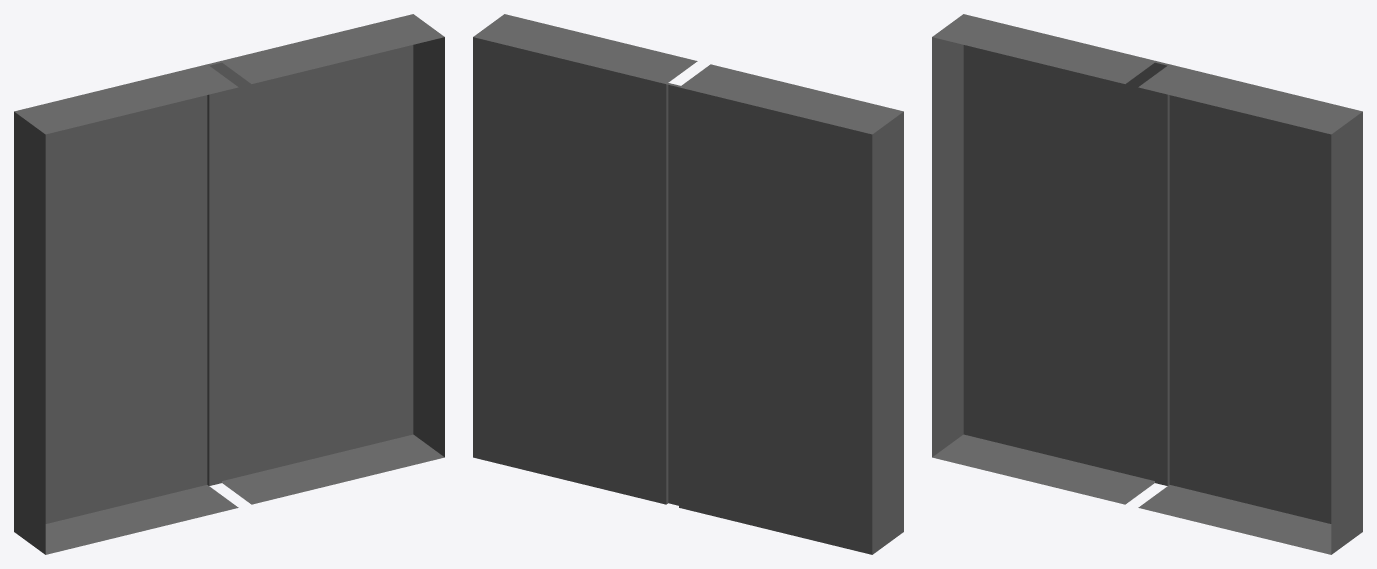
Rendered from Elevador.fbx.
3 renders of one model, left to right at view 1: azimuth 30°, elevation 25°; view 2: azimuth 150°, elevation 25°; view 3: azimuth 330°, elevation 25°, orthographic.
Visible parts, largest first — view 1: Elevador; view 2: Elevador; view 3: Elevador.
Boxes of the visible parts, <box> form: Elevador: <box>14,14,444,554</box>; Elevador: <box>473,14,903,554</box>; Elevador: <box>932,14,1362,554</box>.
Size of the model in its own units: 282 by 284 by 38.57.
